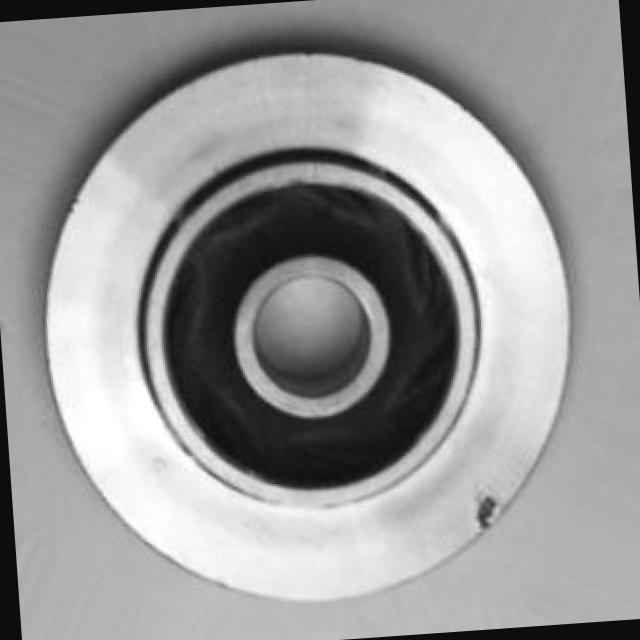Defect: (458, 482, 512, 535)
